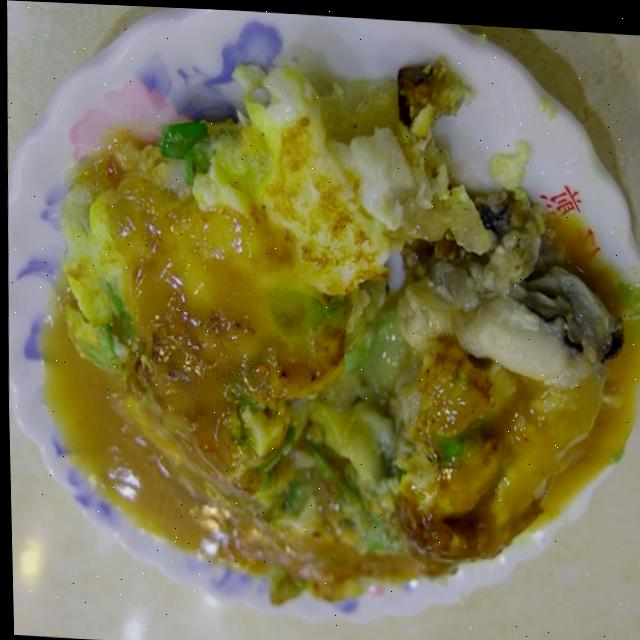熟制海鲜: (28, 6, 627, 635)
